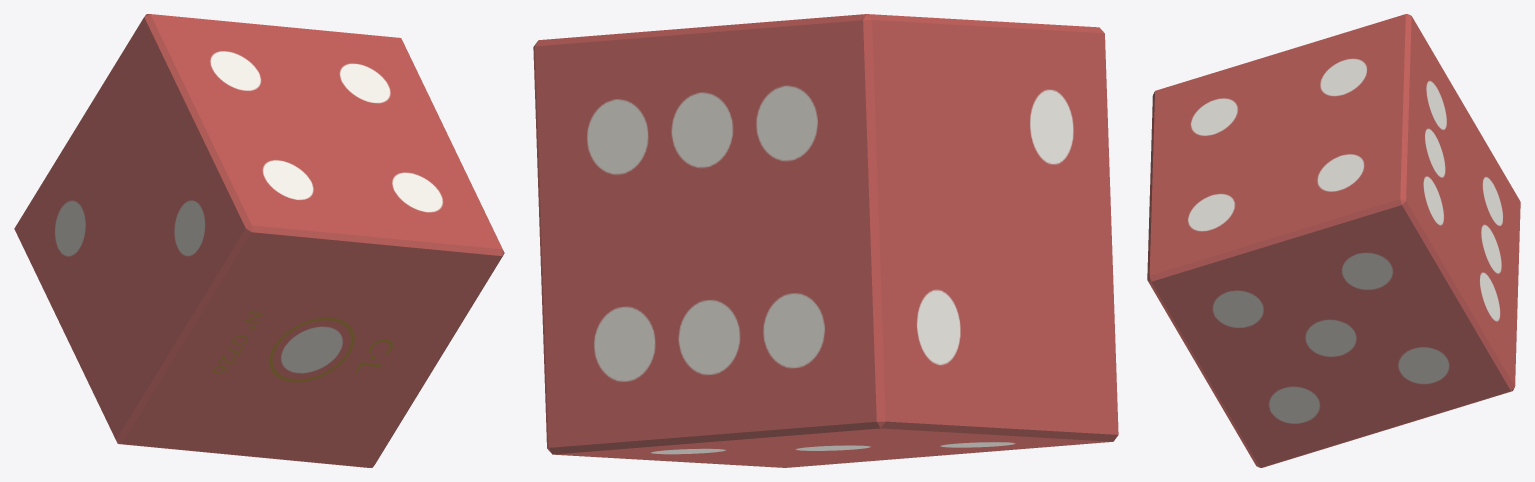
The model's file is b-casino-die.glb.
3 views of the same model, side by side, from view 1: azimuth 30°, elevation 25°; view 2: azimuth 150°, elevation 25°; view 3: azimuth 270°, elevation 25° (orthographic). The views are drawn at different scales.
Parts seen in each view (by area): view 1: Die body; view 2: Die body; view 3: Die body.
Boxes of the visible parts, <box> form: Die body: <box>14,14,504,467</box>; Die body: <box>533,14,1118,467</box>; Die body: <box>1147,14,1520,467</box>.
Size of the model in its own units: 0.0216 by 0.0245 by 0.0212.
Materials: 1 (1 with a texture image).
